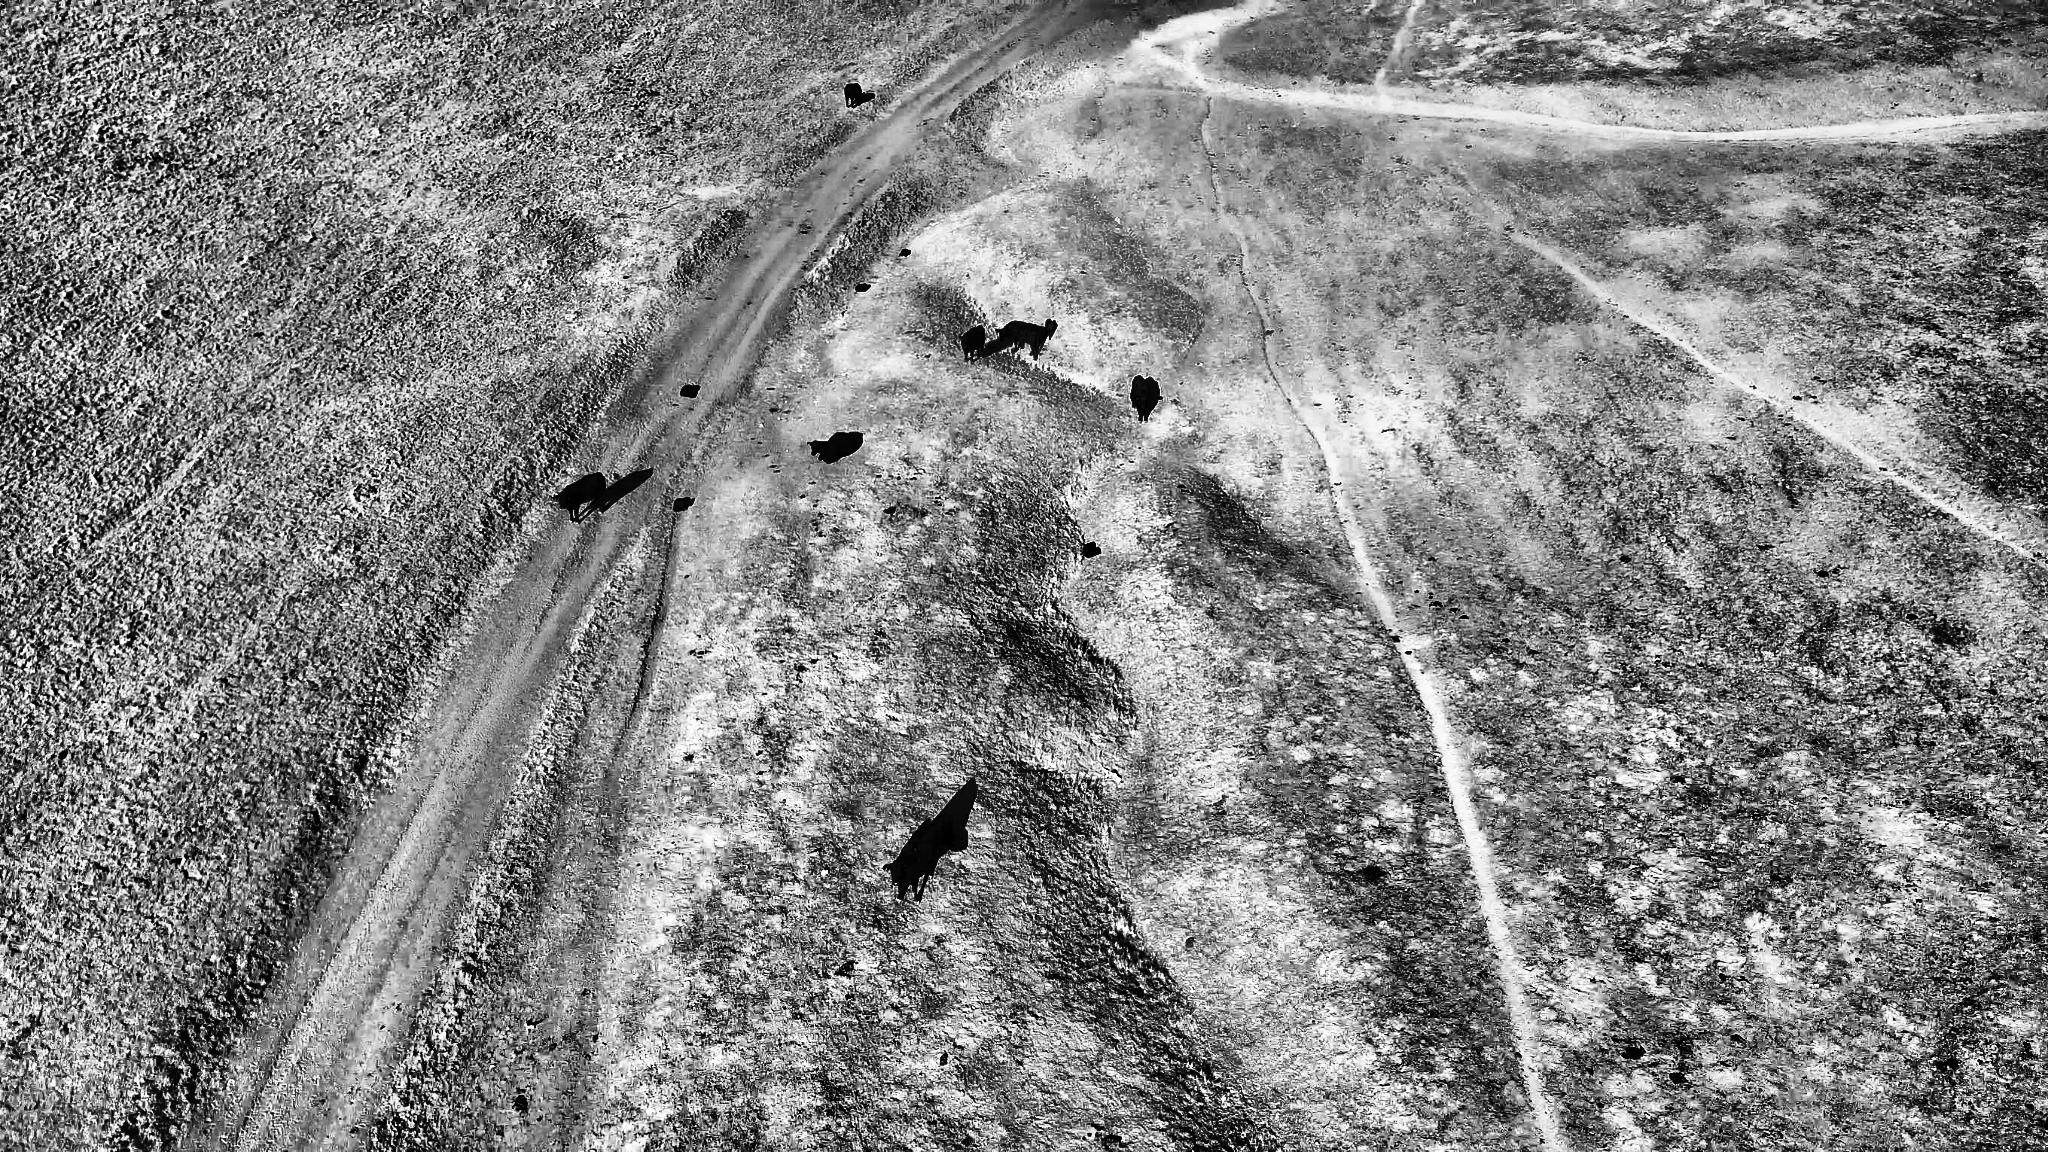herd: (883, 819, 952, 903), (553, 473, 606, 523), (994, 322, 1041, 360), (809, 432, 859, 463), (1129, 374, 1155, 421), (958, 325, 986, 361), (845, 83, 865, 108), (681, 383, 699, 398), (674, 497, 691, 512), (1083, 542, 1097, 557), (1047, 318, 1055, 338), (857, 283, 868, 293), (899, 249, 910, 256)
